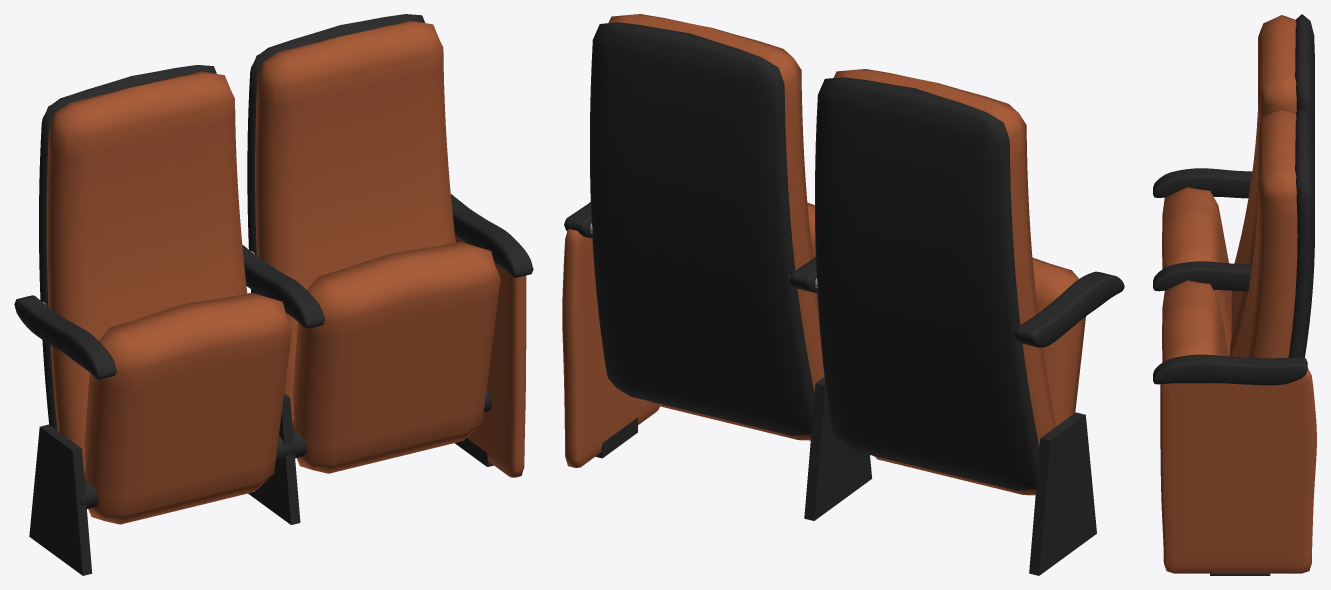
File: sillasIzqBorde.fbx
3 renders of one model, left to right at view 1: azimuth 30°, elevation 25°; view 2: azimuth 150°, elevation 25°; view 3: azimuth 270°, elevation 25°, orthographic. The views are drawn at different scales.
Visible parts, largest first — view 1: polySurface30, polySurface20, polySurface4, polySurface12, polySurface14, polySurface2, polySurface8, polySurface16, polySurface24, polySurface36, polySurface34, polySurface40; view 2: polySurface8, polySurface24, polySurface14, polySurface30, polySurface2, polySurface20, polySurface12, polySurface40, polySurface16, polySurface4; view 3: polySurface14, polySurface20, polySurface30, polySurface12, polySurface24, polySurface4, polySurface36, polySurface34, polySurface16, polySurface8.
Boxes of the visible parts, x1,y1,x2,y2 form: polySurface30: (46,71,247,480); polySurface20: (255,21,455,429); polySurface4: (293,242,500,473); polySurface12: (84,292,291,524); polySurface14: (455,235,526,477); polySurface2: (29,424,92,575); polySurface8: (39,65,216,430); polySurface16: (14,295,116,379); polySurface24: (247,14,424,294); polySurface36: (450,194,533,277); polySurface34: (242,245,324,328); polySurface40: (248,393,300,524); polySurface8: (815,77,1039,490); polySurface24: (590,22,814,435); polySurface14: (562,229,659,467); polySurface30: (833,69,1056,446); polySurface2: (1029,412,1096,575); polySurface20: (608,14,824,391); polySurface12: (874,257,1085,495); polySurface40: (804,377,872,520); polySurface16: (1014,271,1124,347); polySurface4: (649,202,815,440); polySurface14: (1160,368,1316,573); polySurface20: (1234,108,1297,358); polySurface30: (1229,15,1296,356); polySurface12: (1162,187,1231,356); polySurface24: (1288,107,1314,357); polySurface4: (1162,280,1228,362); polySurface36: (1153,354,1307,385); polySurface34: (1153,261,1252,291); polySurface16: (1153,168,1252,198); polySurface8: (1295,14,1314,146).
Bounding box in the file's own units: 5.47 × 5.13 × 1.93.
